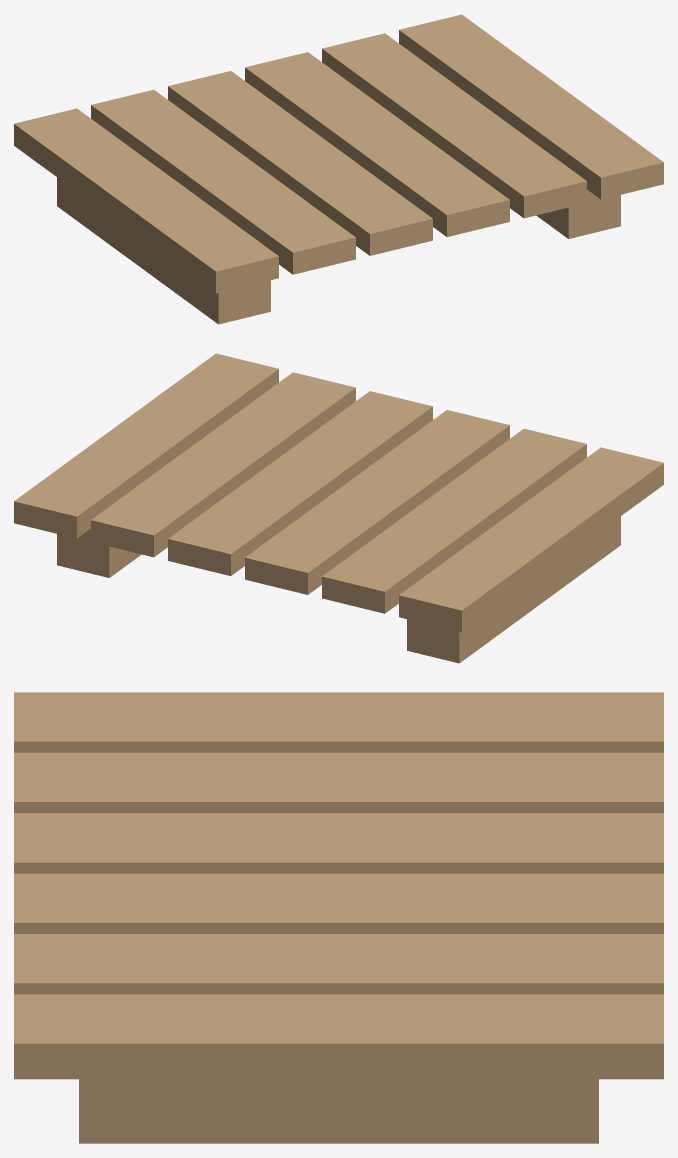
File: supermarket-operations-pallet-display-base-bca4dc74__26759.glb
3 views of the same model, one above another, from view 1: azimuth 30°, elevation 25°; view 2: azimuth 150°, elevation 25°; view 3: azimuth 270°, elevation 25° (orthographic). The views are drawn at different scales.
Visible parts, largest first — view 1: pallet-display-base; view 2: pallet-display-base; view 3: pallet-display-base.
Part boxes in pixels (box(x1,y1,x2,y2)): pallet-display-base: box(14, 14, 663, 324); pallet-display-base: box(14, 353, 663, 663); pallet-display-base: box(14, 692, 663, 1143).
Size of the model in its own units: 1.28 by 0.2 by 1.
